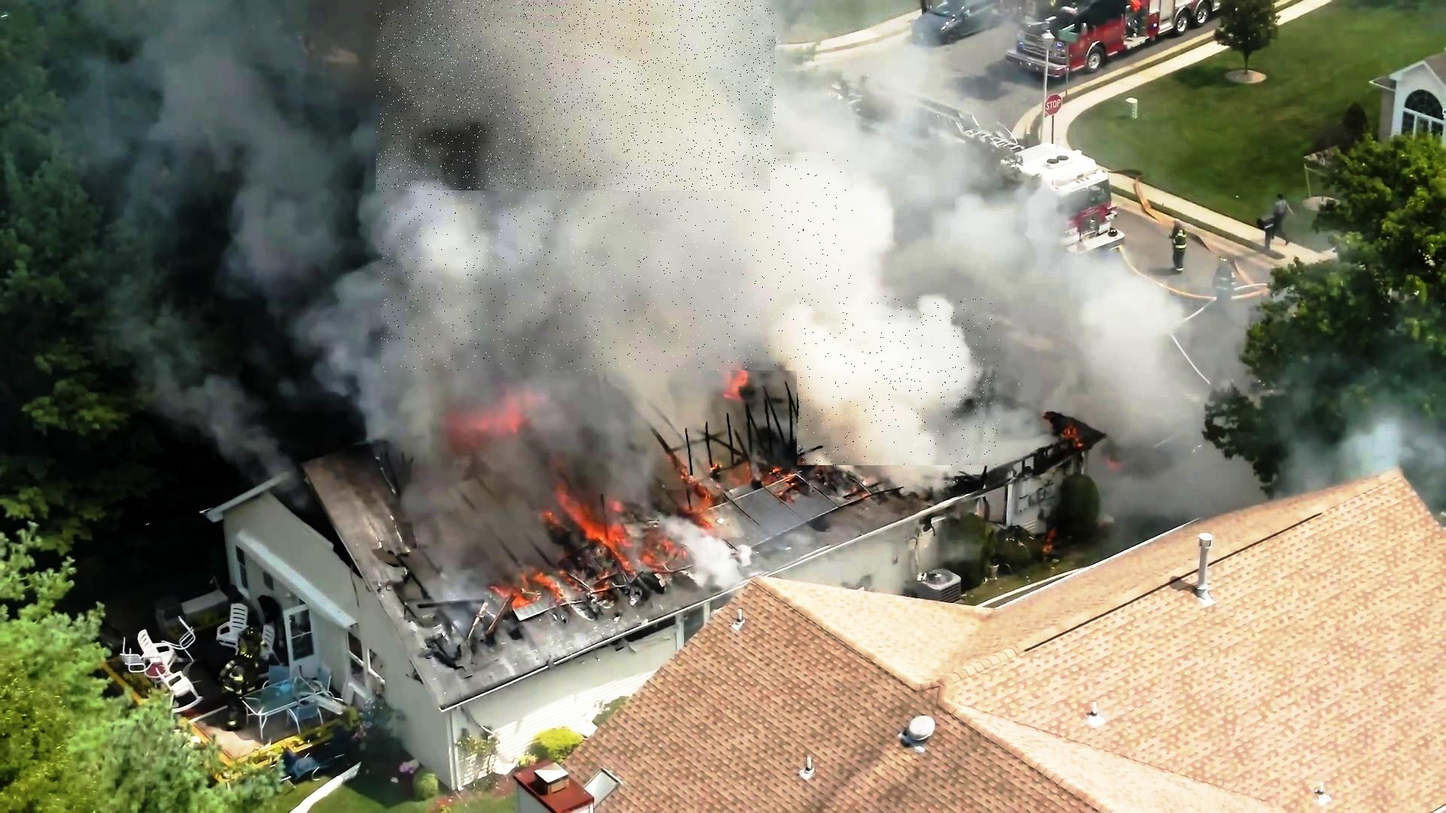smoke: (382, 153, 855, 372), (376, 0, 776, 190), (798, 296, 1000, 465)
